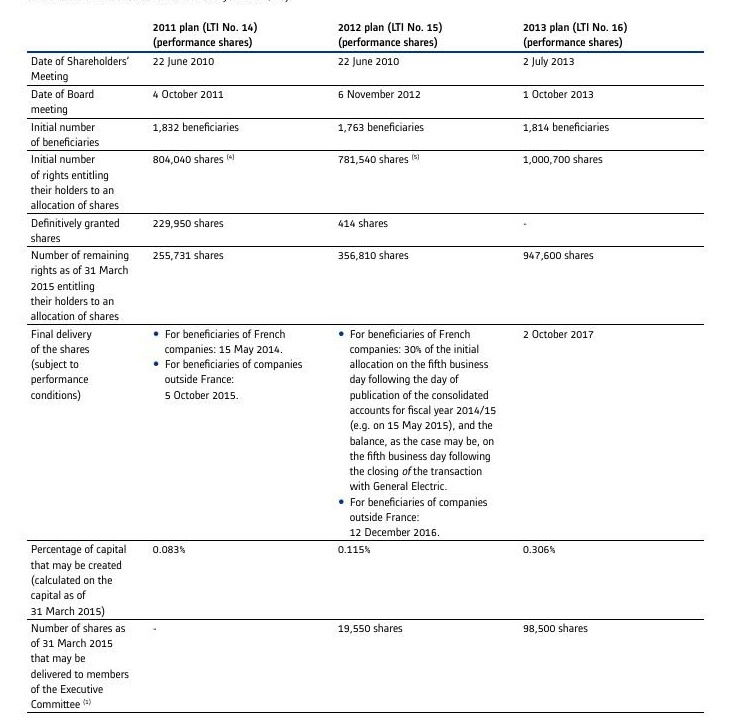table: (0, 0, 732, 728)
